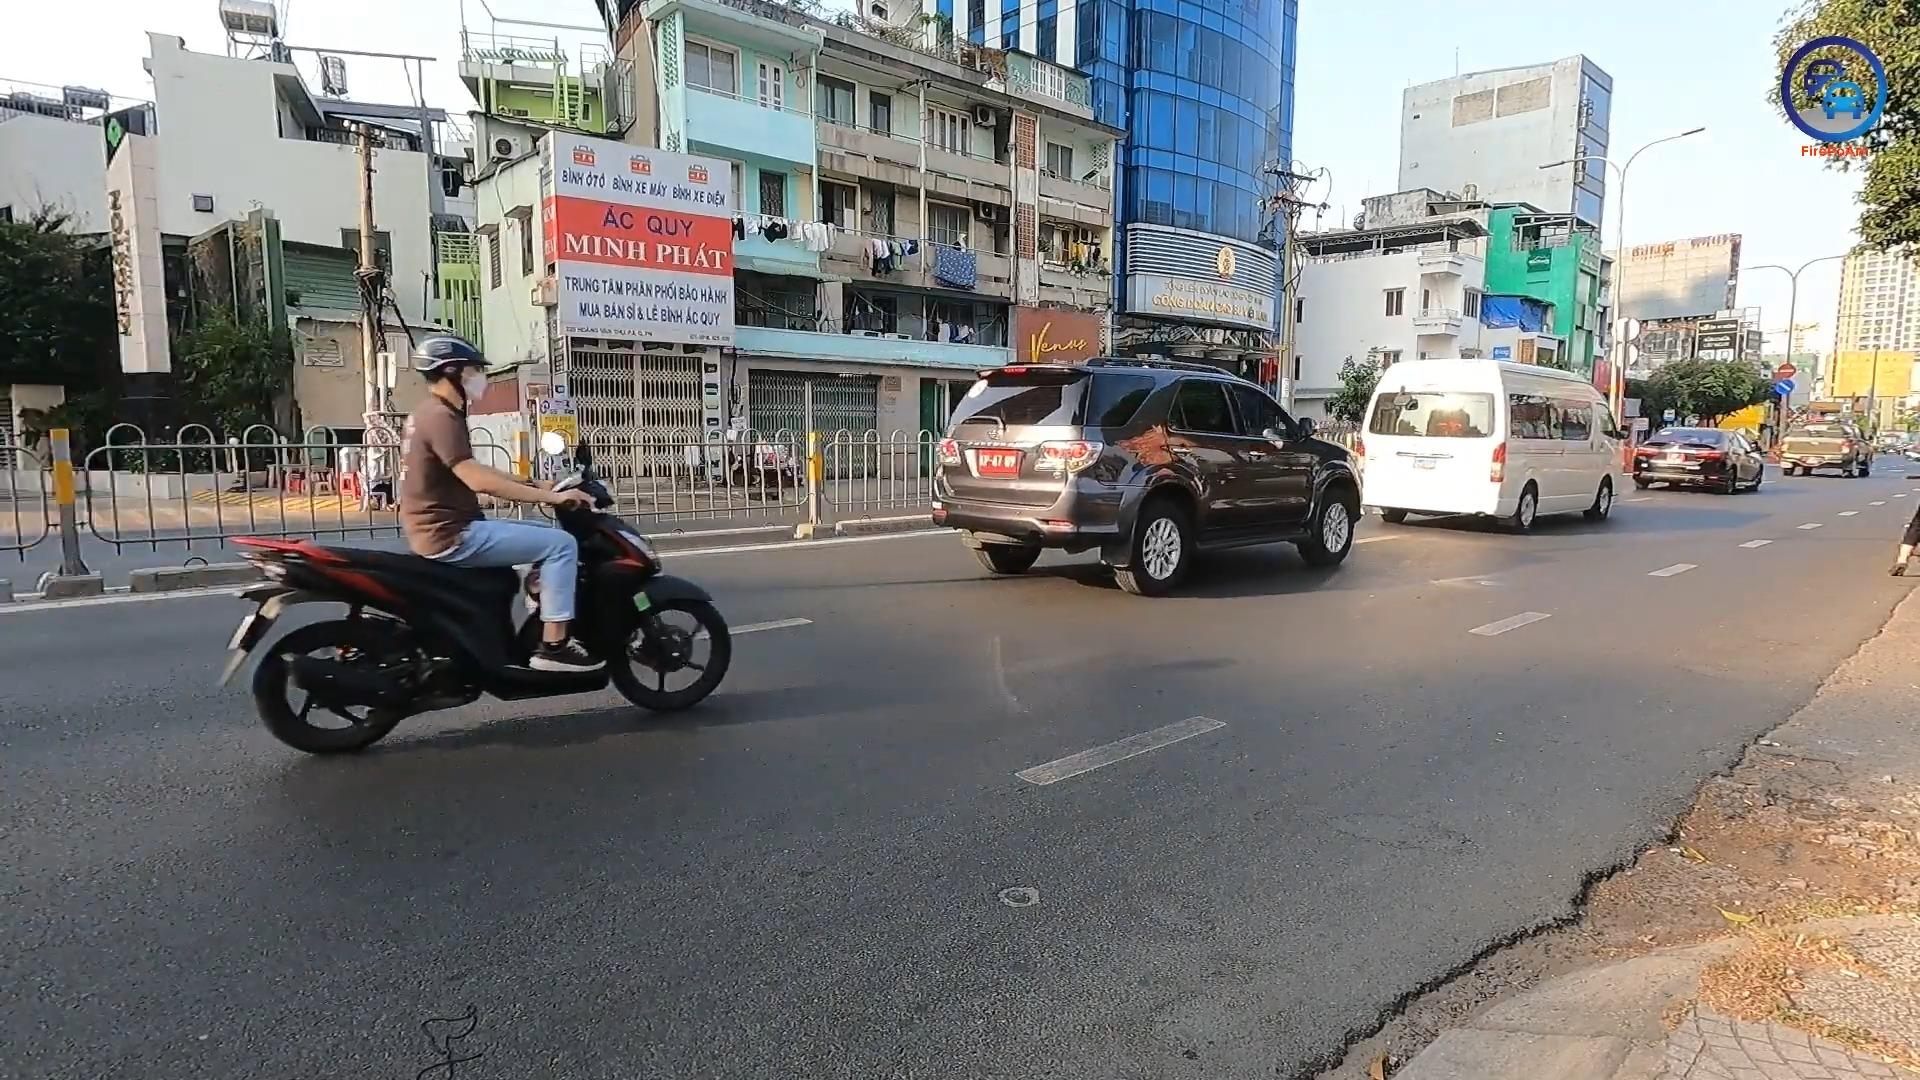bien_so: (975, 448, 1020, 474)
